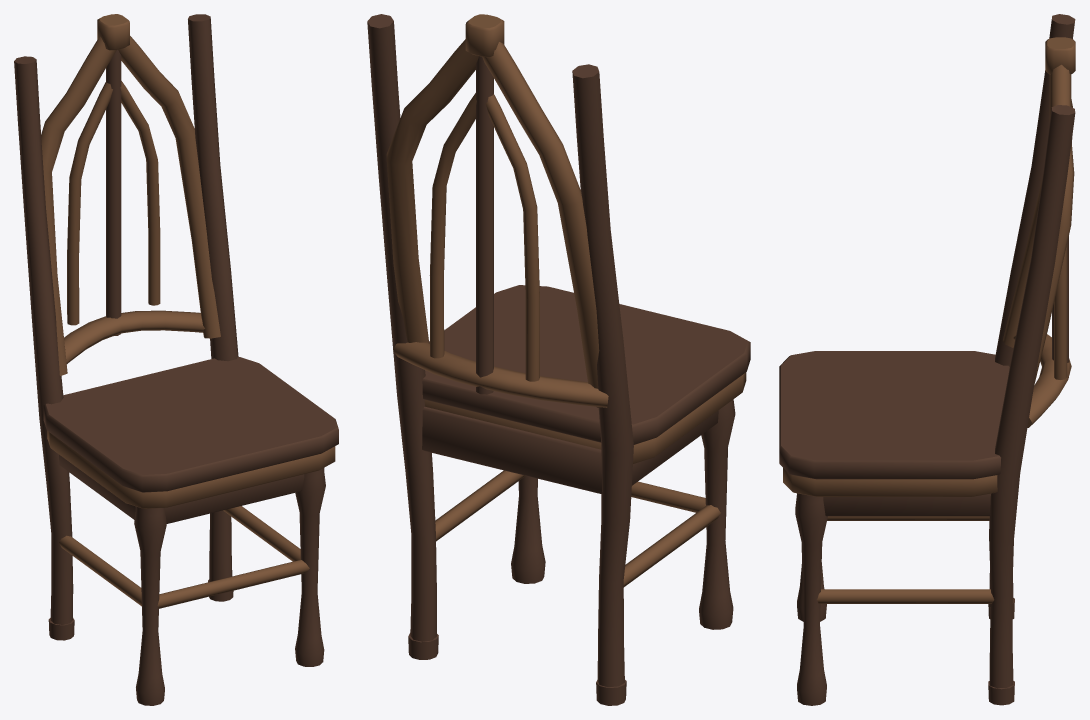
The model's file is rpg-mansion-gothic-hall-01.glb.
3 renders of one model, left to right at view 1: azimuth 30°, elevation 25°; view 2: azimuth 150°, elevation 25°; view 3: azimuth 270°, elevation 25°, orthographic. The views are drawn at different scales.
Parts seen in each view (by area): view 1: rpg-mansion-gothic-hall-01; view 2: rpg-mansion-gothic-hall-01; view 3: rpg-mansion-gothic-hall-01.
Part boxes in pixels (x1,y1,x2,y2): rpg-mansion-gothic-hall-01: [14, 14, 338, 705]; rpg-mansion-gothic-hall-01: [367, 14, 750, 705]; rpg-mansion-gothic-hall-01: [779, 14, 1075, 705].
Bounding box in the file's own units: 0.434 × 1.12 × 0.489.
